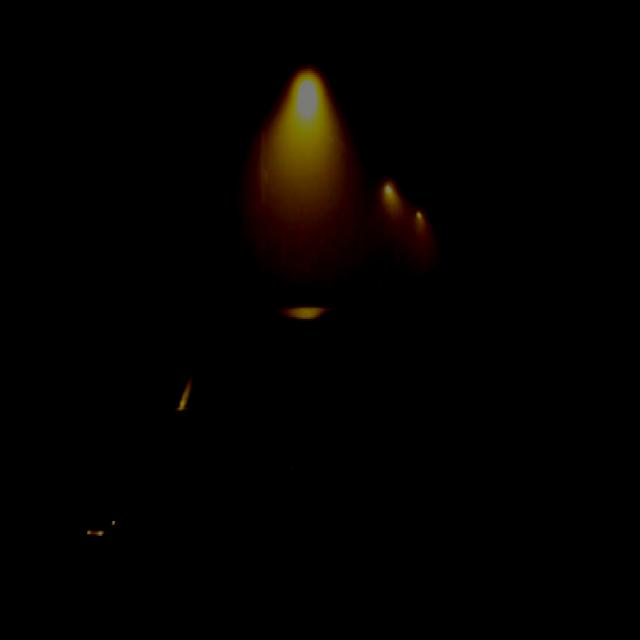Car: (86, 315, 404, 586)
